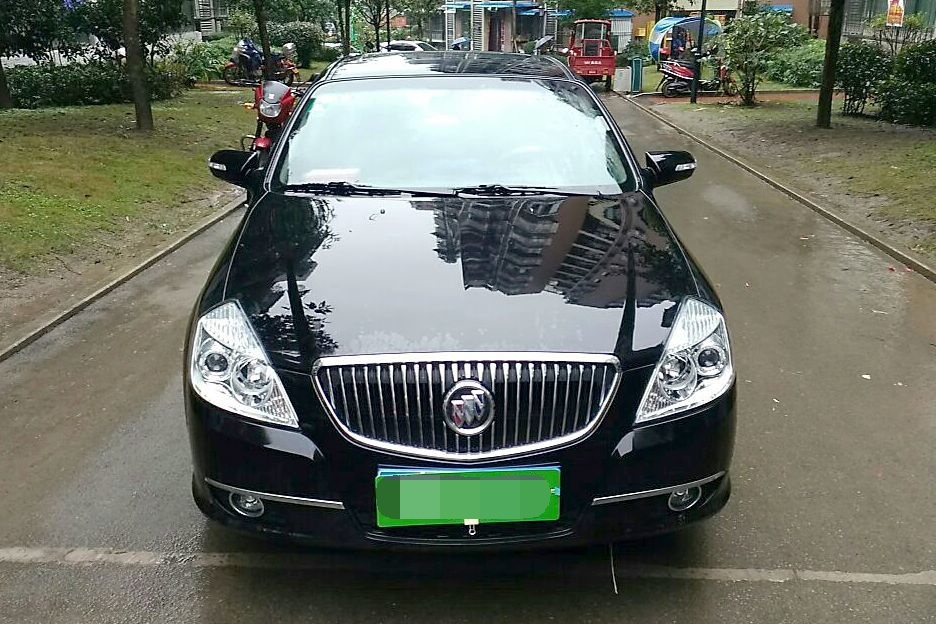family sedan: (187, 43, 744, 557)
